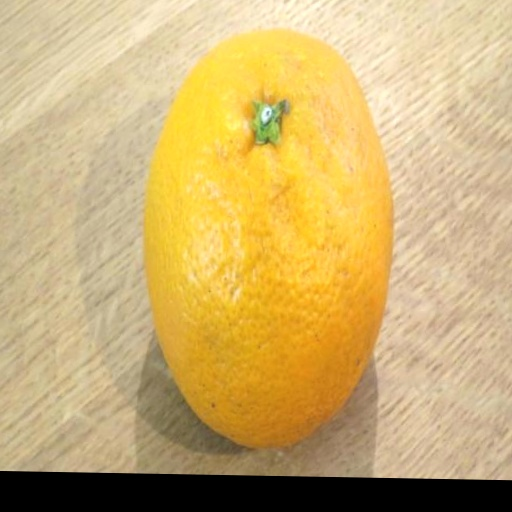fruit: (144, 30, 392, 446)
